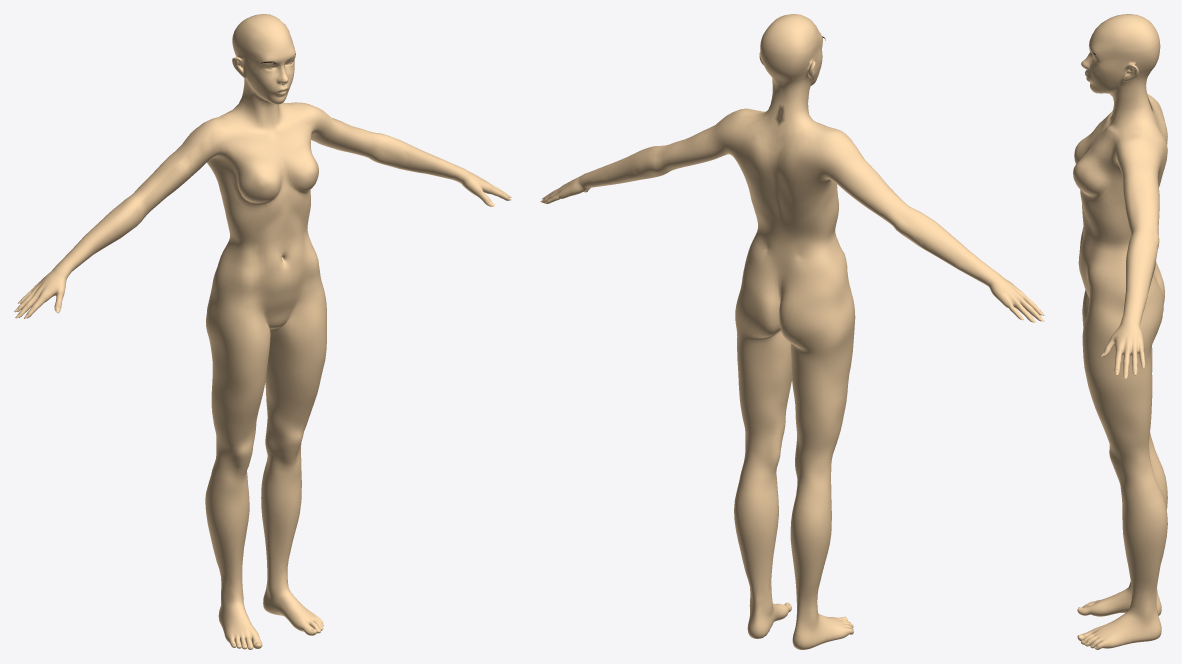
The model's file is female_XS_1.glb.
The picture shows the model from 3 angles, left to right: view 1: azimuth 30°, elevation 25°; view 2: azimuth 150°, elevation 25°; view 3: azimuth 270°, elevation 25°; orthographic projection.
Parts seen in each view (by area): view 1: Body; view 2: Body; view 3: Body.
Boxes of the visible parts, x1,y1,x2,y2 form: Body: (16,14,511,649); Body: (542,14,1041,649); Body: (1073,14,1167,649).
Bounding box in the file's own units: 1.58 × 1.85 × 0.2597.
